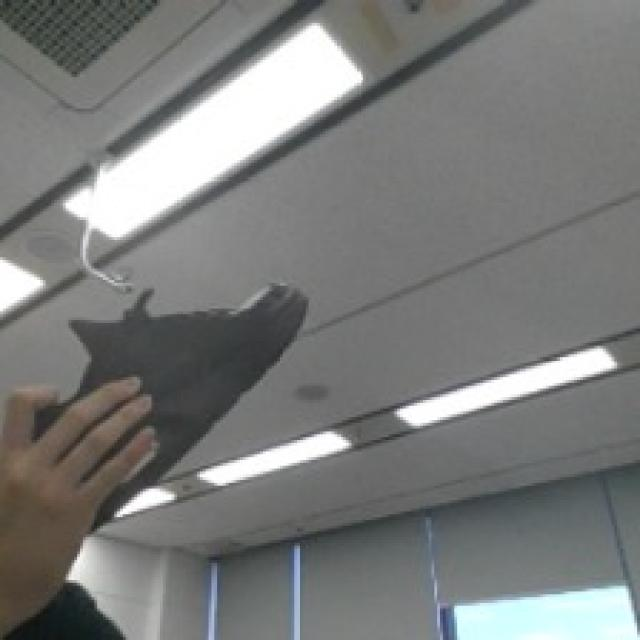shoe: (0, 220, 315, 533)
